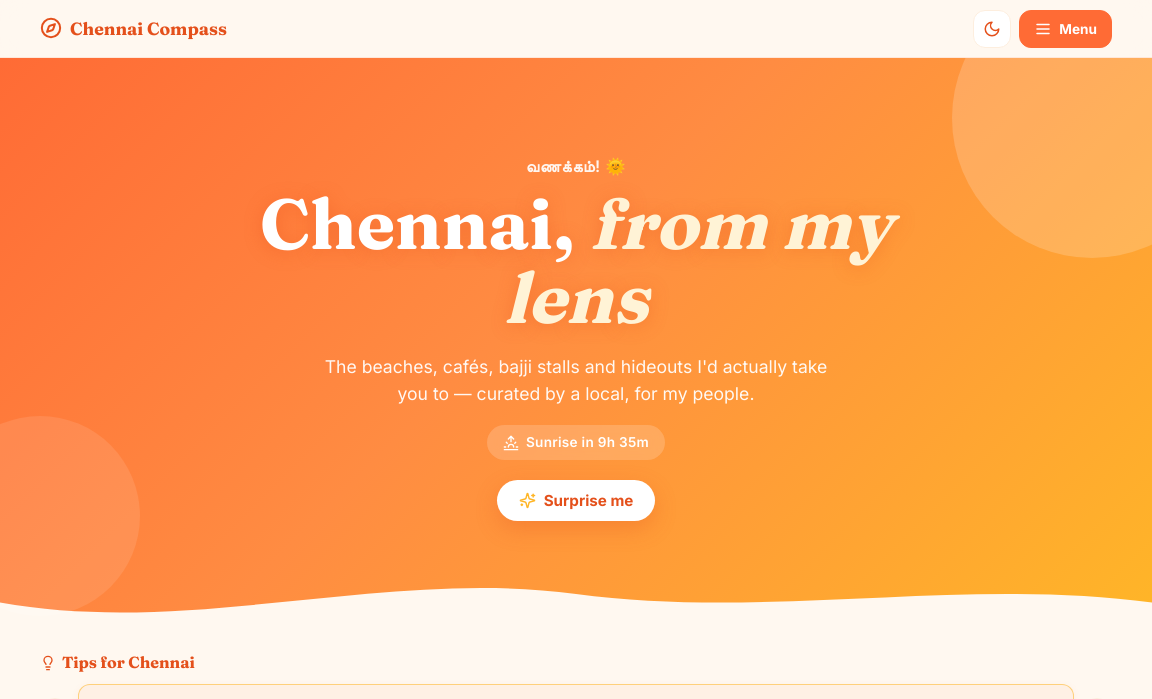
Scenario: About in the app menu › is hidden by default and opens from the header menu
This screenshot has width=1152, height=699.
Step 1. Click the button "Menu" → (1066, 28), box [1019, 10, 1112, 48]
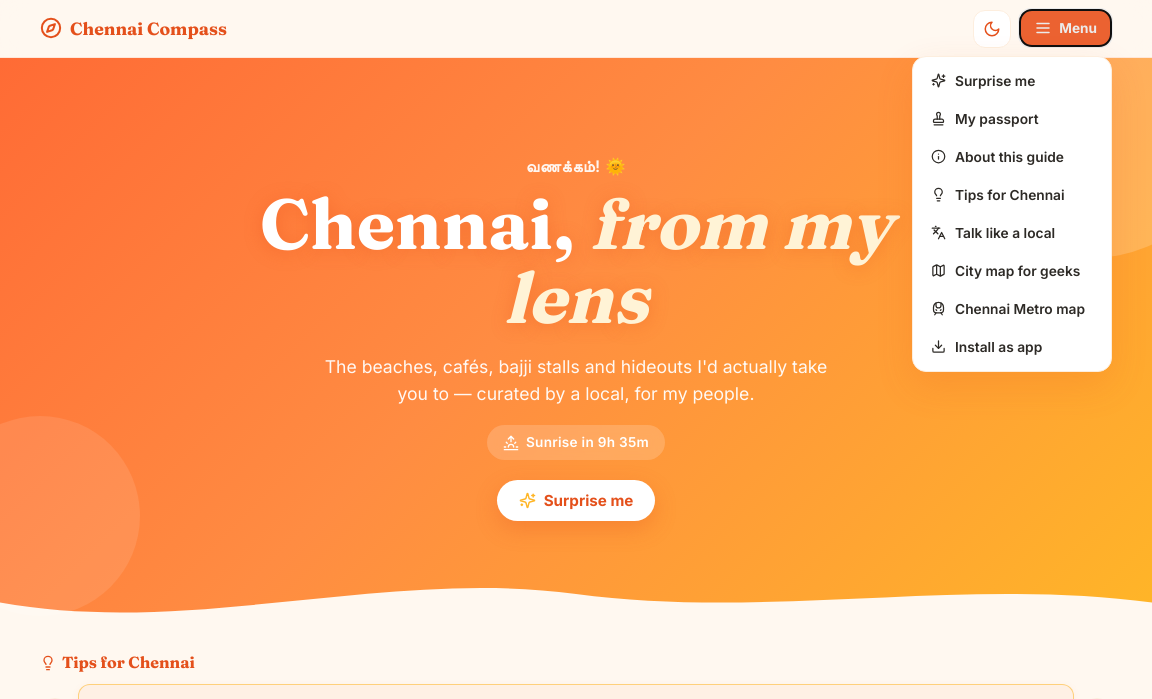
Step 2. Click the menu item "About this guide" → (1012, 156), box [919, 138, 1105, 174]
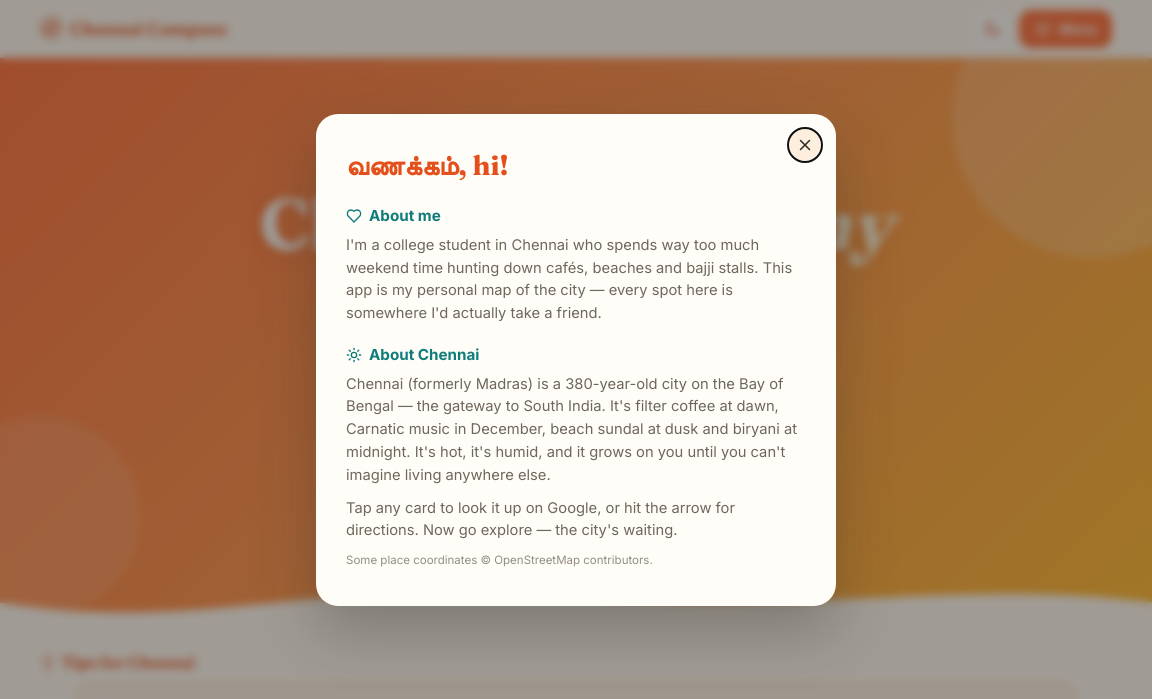
Expected: the dialog is shown, [316, 114, 836, 606]
Expected: the heading "About Chennai" is shown, [346, 345, 479, 364]
